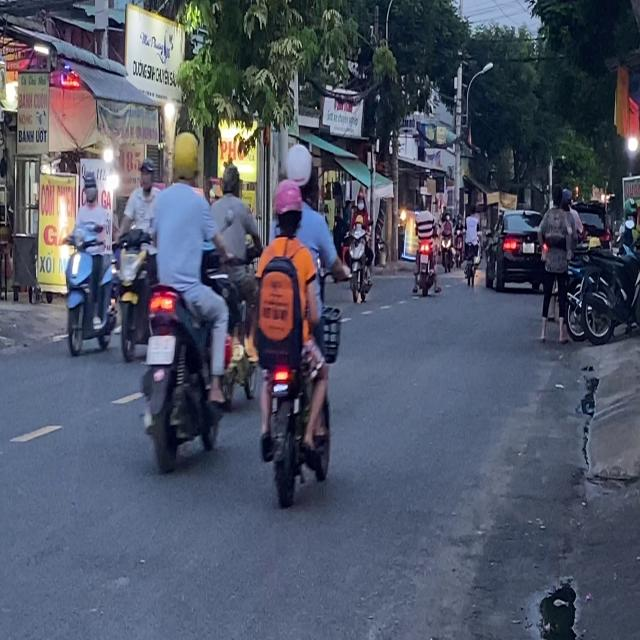helmet: (271, 178, 303, 238), (170, 130, 199, 184), (284, 143, 312, 195), (220, 163, 240, 196), (138, 156, 155, 189), (82, 174, 98, 203)
licenseplate: (252, 141, 342, 511), (141, 127, 230, 473), (61, 174, 118, 358)
nohelmet: (146, 335, 175, 364)
